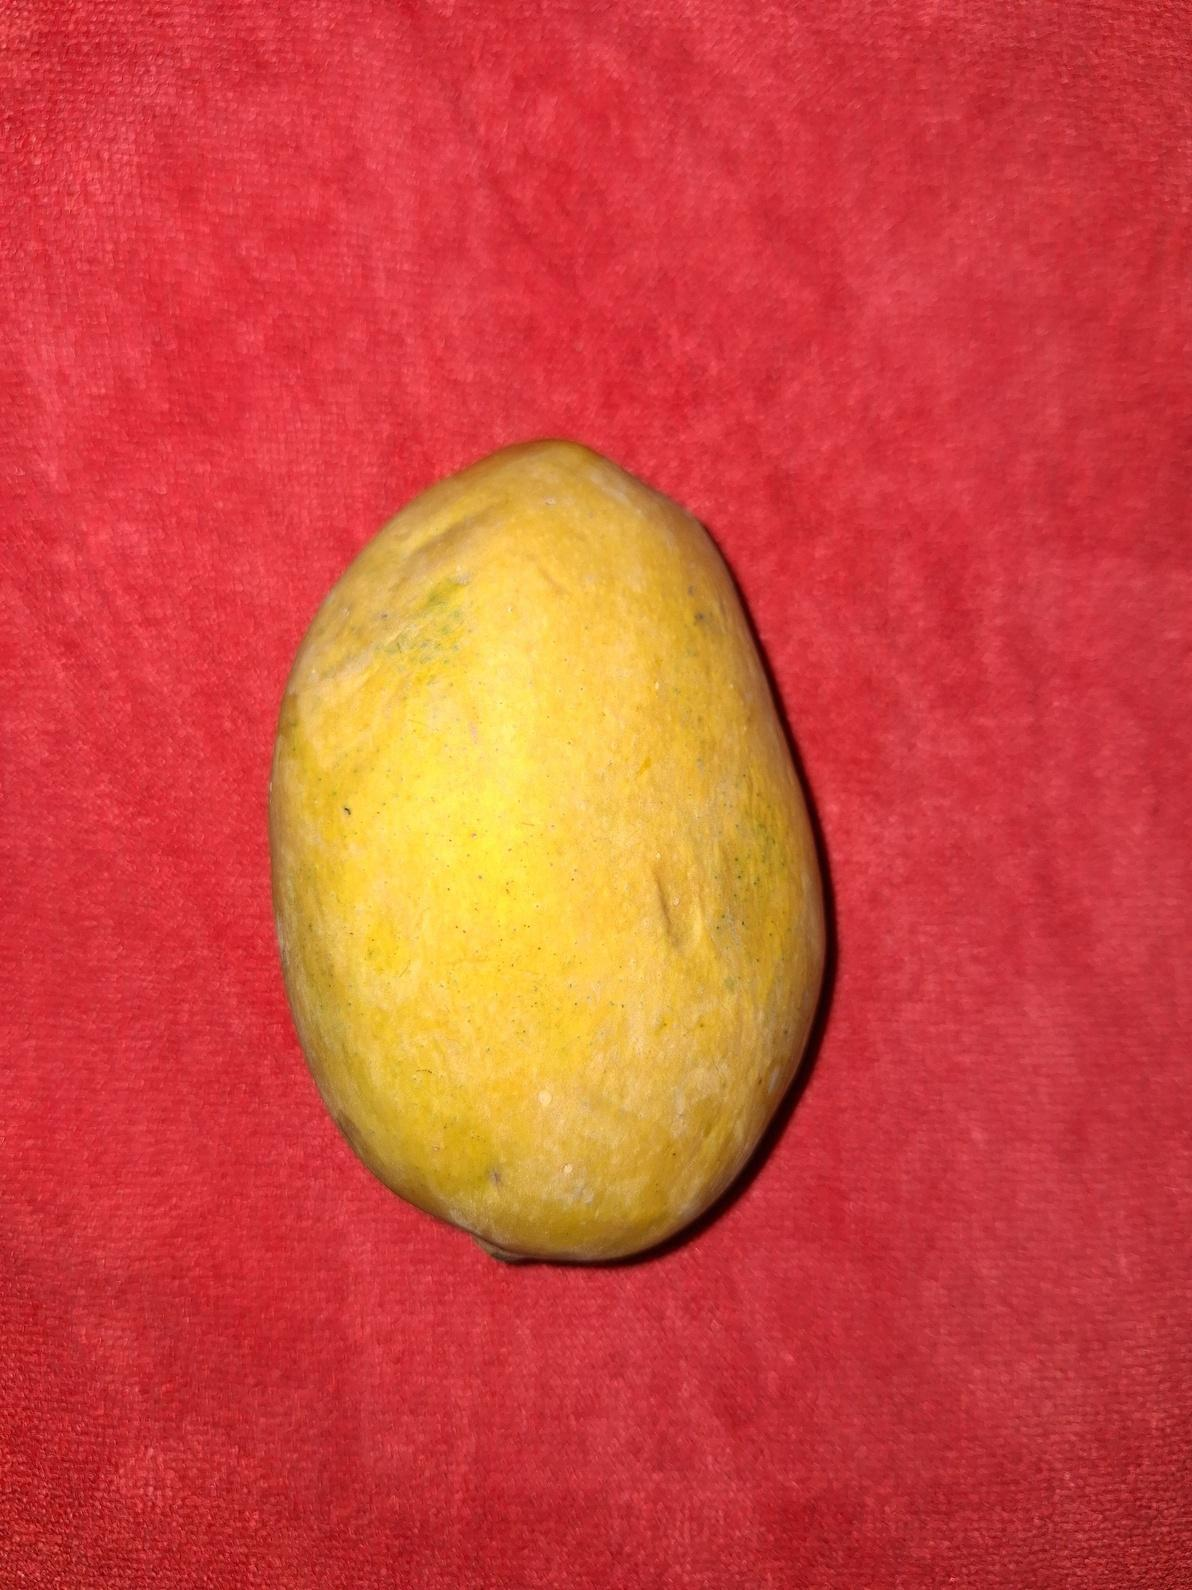mango: (265, 434, 828, 1264)
